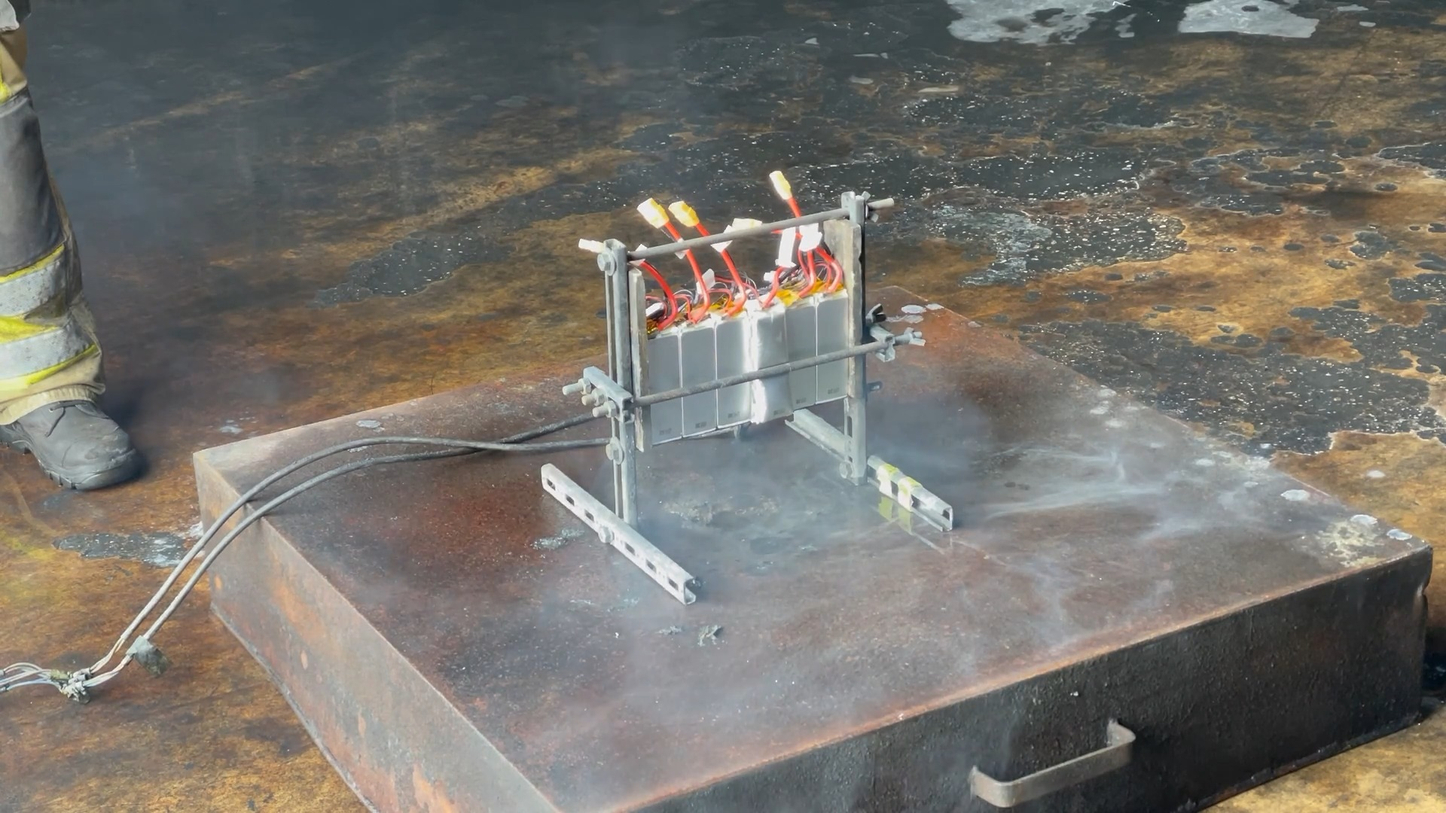smoke: (40, 88, 566, 813), (584, 300, 1213, 759)
